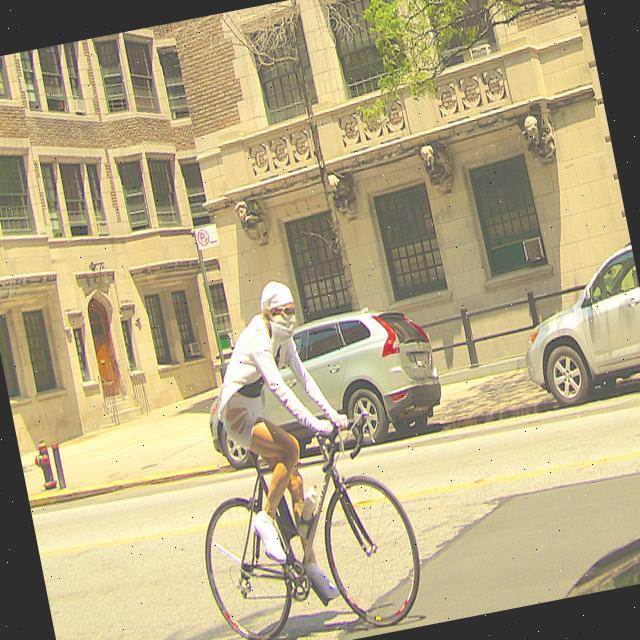fire_hydrant: (38, 438, 58, 492)
